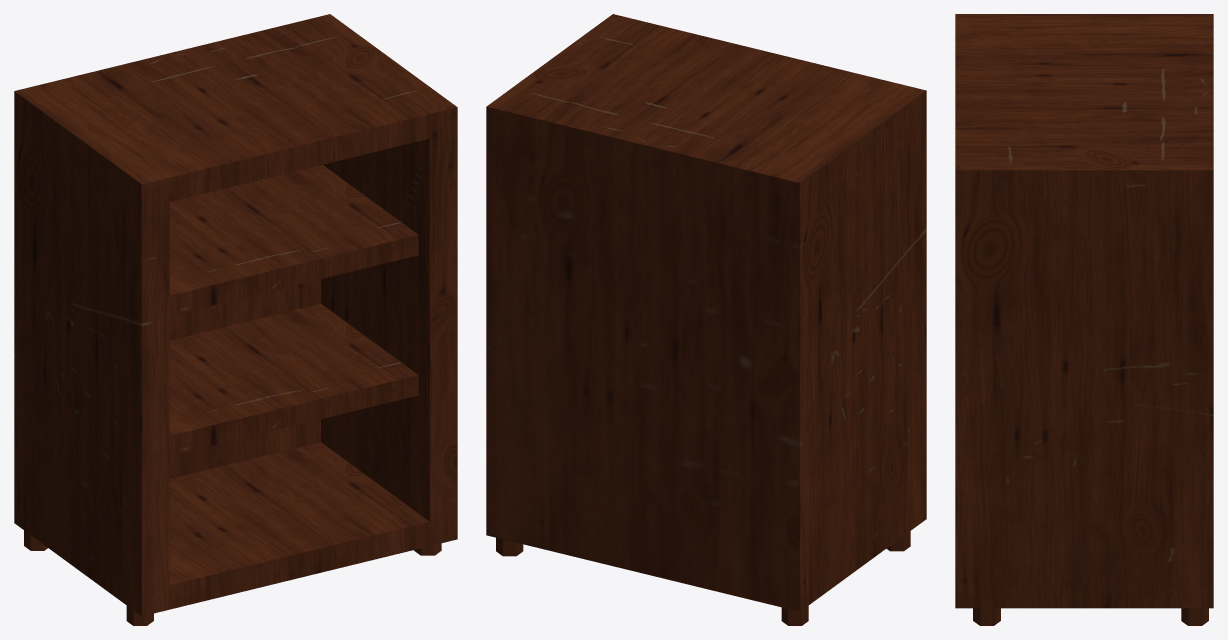
The model's file is small shelf.FBX.
3 renders of one model, left to right at view 1: azimuth 30°, elevation 25°; view 2: azimuth 150°, elevation 25°; view 3: azimuth 270°, elevation 25°, orthographic. The views are drawn at different scales.
Parts seen in each view (by area): view 1: small shelf_lp; view 2: small shelf_lp; view 3: small shelf_lp.
Boxes of the visible parts, left/top/right/bottom form: small shelf_lp: left=14, top=14, right=457, bottom=625; small shelf_lp: left=486, top=14, right=926, bottom=625; small shelf_lp: left=955, top=14, right=1213, bottom=625.
Size of the model in its own units: 47.52 by 64.89 by 33.22.
Materials: 1 (1 with a texture image).
